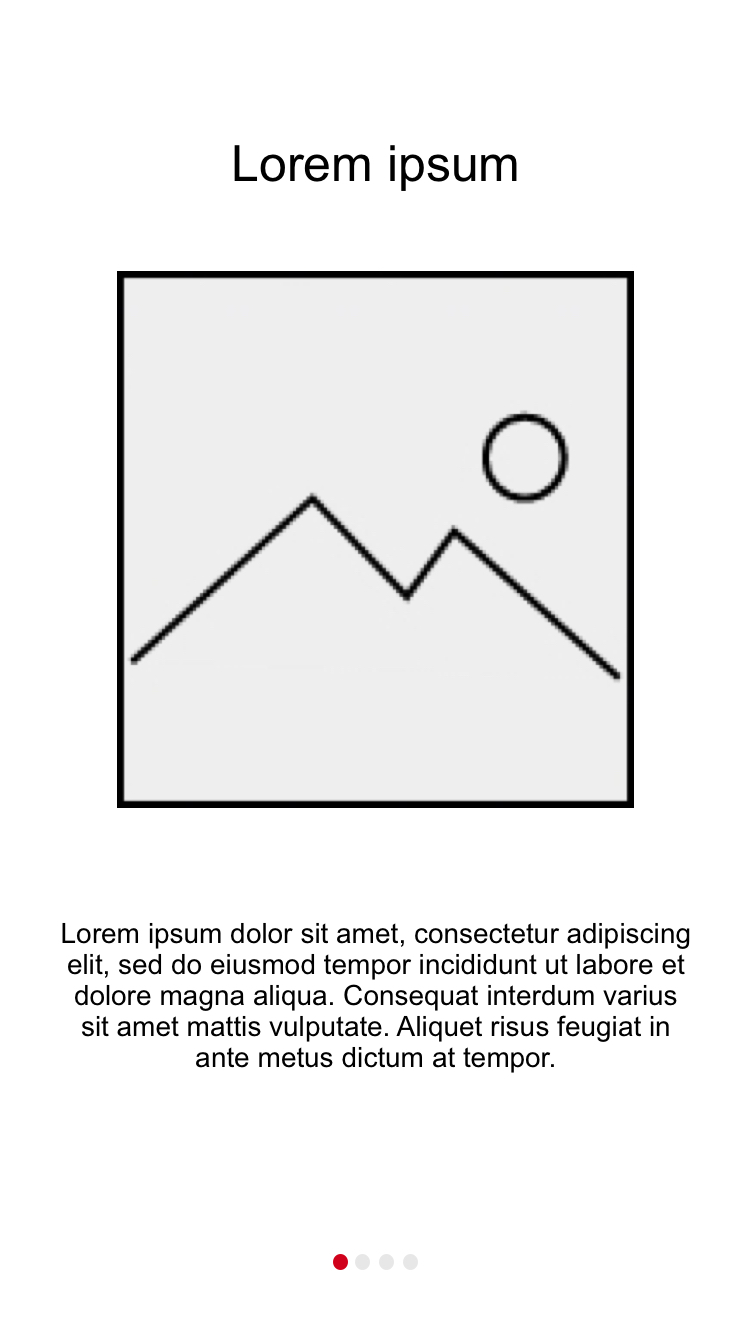Image: (117, 270, 636, 809)
PageIndicator: (333, 1253, 420, 1272)
Text: (62, 921, 691, 1074), (233, 145, 518, 194)
